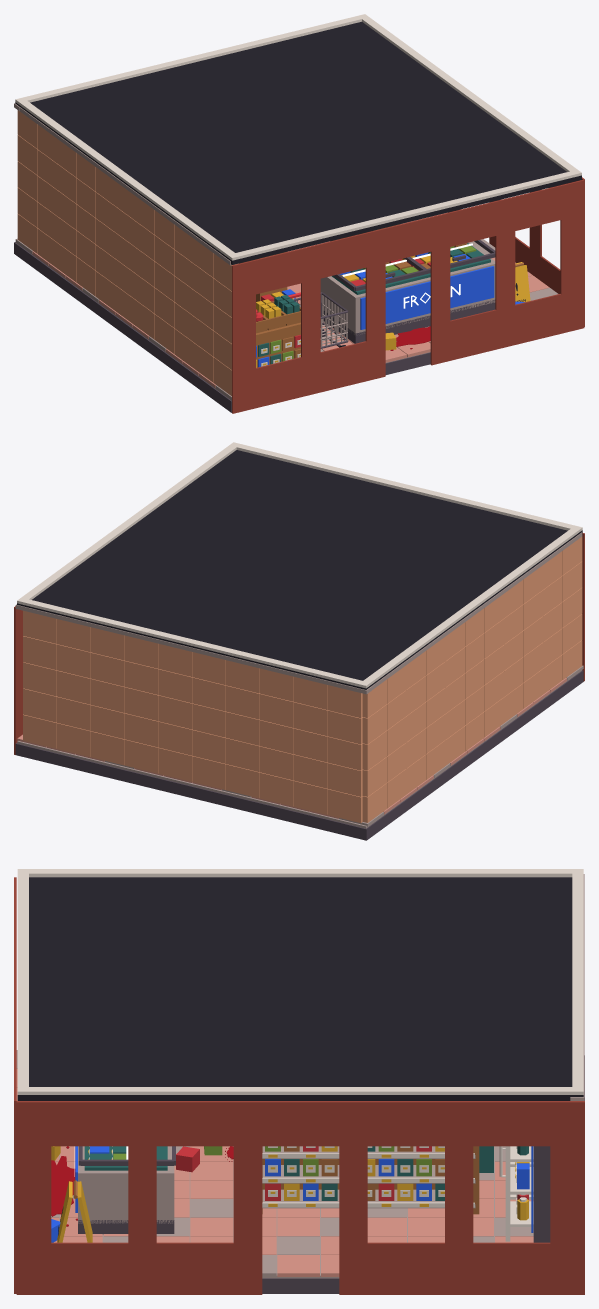
Rendered from bld.supermarket.lod1.glb.
3 views of the same model, one above another, from view 1: azimuth 30°, elevation 25°; view 2: azimuth 150°, elevation 25°; view 3: azimuth 270°, elevation 25° (orthographic). The views are drawn at different scales.
Visible parts, largest first — view 1: roof, interior, door_freezer_00_mesh; view 2: interior, roof; view 3: roof, interior, door_fridge_05_mesh, door_freezer_01_mesh.
Part boxes in pixels (x1,y1,x2,y2): roof: (15,14,584,413); interior: (14,103,557,412); door_freezer_00_mesh: (333,257,427,291); interior: (15,532,583,840); roof: (14,442,584,754); roof: (14,869,584,1294); interior: (16,874,584,1293); door_fridge_05_mesh: (499,1146,510,1241); door_freezer_01_mesh: (78,1146,175,1165).
Size of the model in its own units: 8.44 by 3.53 by 9.06.
